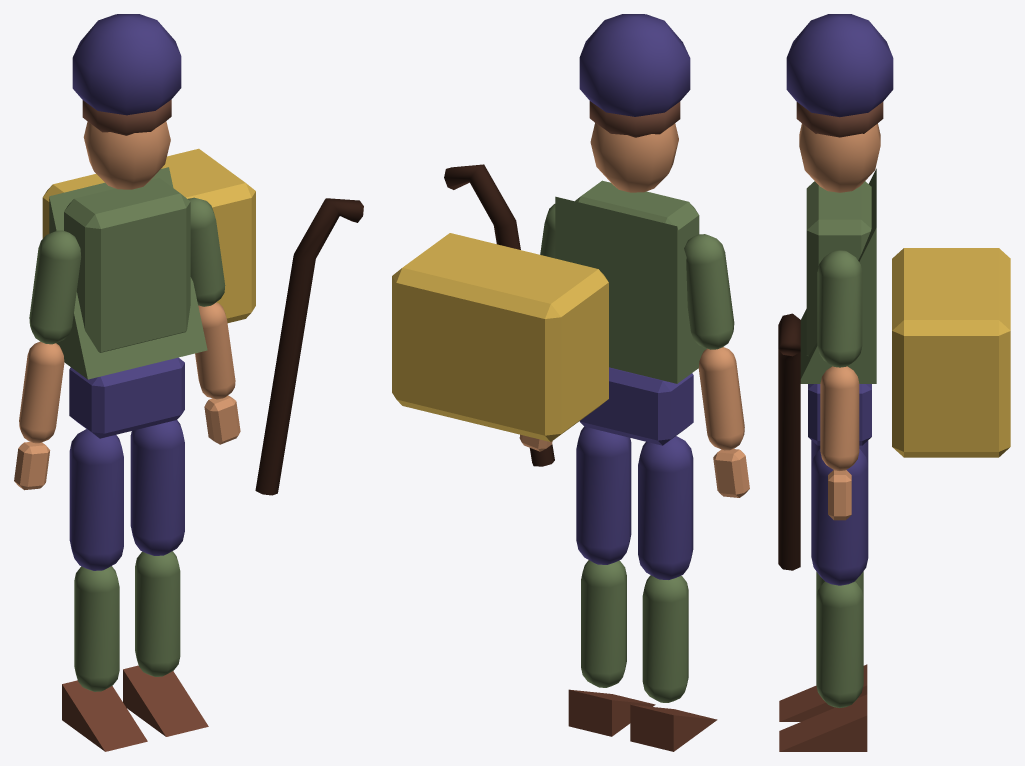
Rendered from adventurer.rustic.glb.
The picture shows the model from 3 angles, left to right: view 1: azimuth 30°, elevation 25°; view 2: azimuth 150°, elevation 25°; view 3: azimuth 270°, elevation 25°; orthographic projection.
Visible parts, largest first — view 1: torso, accessory.head, accessory.back, accessory.main-hand, thigh.left, pelvis, thigh.right, tunic, shin.right, shin.left, upper-arm.left, head (+8 smaller); view 2: accessory.back, tunic, accessory.head, thigh.left, thigh.right, pelvis, shin.left, shin.right, upper-arm.left, head, forearm.left, torso (+6 smaller); view 3: accessory.back, accessory.head, accessory.main-hand, thigh.right, shin.right, torso, upper-arm.right, head, tunic, forearm.right, foot.right, hair (+3 smaller).
Boxes of the visible parts, x1=… form: torso: x1=64, y1=178, x2=190, y2=352; accessory.head: x1=72, y1=14, x2=181, y2=115; accessory.back: x1=42, y1=148, x2=255, y2=322; accessory.main-hand: x1=255, y1=198, x2=363, y2=495; thigh.left: x1=69, y1=429, x2=123, y2=570; pelvis: x1=69, y1=357, x2=184, y2=438; thigh.right: x1=130, y1=420, x2=184, y2=555; tunic: x1=49, y1=167, x2=207, y2=379; shin.right: x1=135, y1=551, x2=180, y2=676; shin.left: x1=74, y1=566, x2=119, y2=691; upper-arm.left: x1=29, y1=230, x2=80, y2=344; head: x1=83, y1=121, x2=170, y2=189; accessory.back: x1=392, y1=233, x2=608, y2=441; tunic: x1=555, y1=196, x2=706, y2=383; accessory.head: x1=579, y1=14, x2=690, y2=116; thigh.left: x1=638, y1=436, x2=693, y2=579; thigh.right: x1=576, y1=426, x2=631, y2=564; pelvis: x1=579, y1=367, x2=693, y2=445; shin.left: x1=642, y1=575, x2=688, y2=702; shin.right: x1=581, y1=560, x2=626, y2=687; upper-arm.left: x1=684, y1=234, x2=734, y2=349; head: x1=590, y1=123, x2=678, y2=192; forearm.left: x1=698, y1=347, x2=744, y2=450; torso: x1=575, y1=180, x2=699, y2=247; accessory.back: x1=892, y1=248, x2=1010, y2=457; accessory.head: x1=786, y1=14, x2=893, y2=117; accessory.main-hand: x1=778, y1=313, x2=800, y2=570; thigh.right: x1=811, y1=449, x2=868, y2=585; shin.right: x1=816, y1=581, x2=863, y2=707; torso: x1=806, y1=181, x2=871, y2=355; upper-arm.right: x1=817, y1=250, x2=862, y2=367; head: x1=799, y1=123, x2=880, y2=192; tunic: x1=800, y1=168, x2=876, y2=383; forearm.right: x1=820, y1=366, x2=859, y2=470; foot.right: x1=779, y1=694, x2=867, y2=751; hair: x1=796, y1=102, x2=883, y2=137.
Size of the model in its own units: 1.57 by 3.29 by 0.98.
